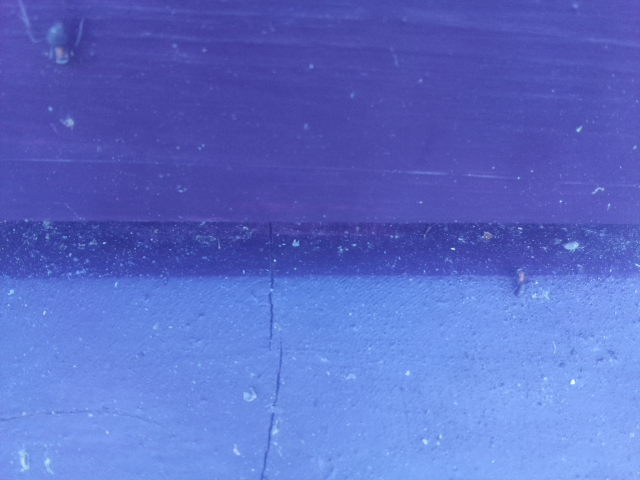ant: (40, 14, 75, 72)
